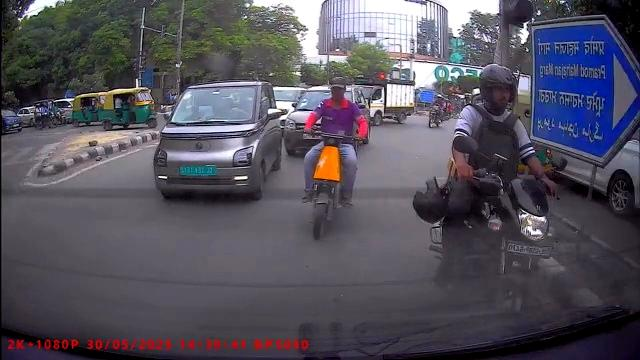motorcycle_without_helmet: (301, 73, 370, 245)
